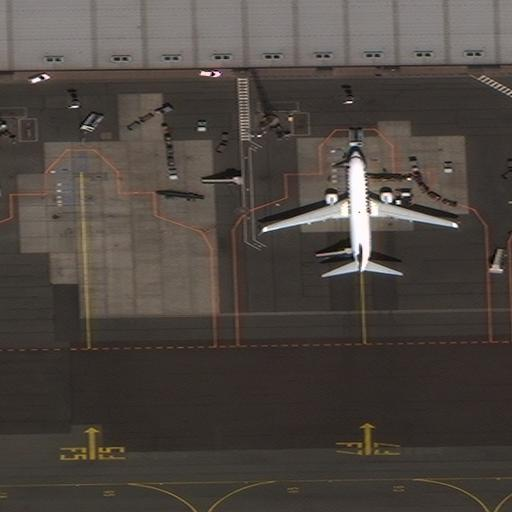Large Civil Transport: (258, 140, 462, 280)
